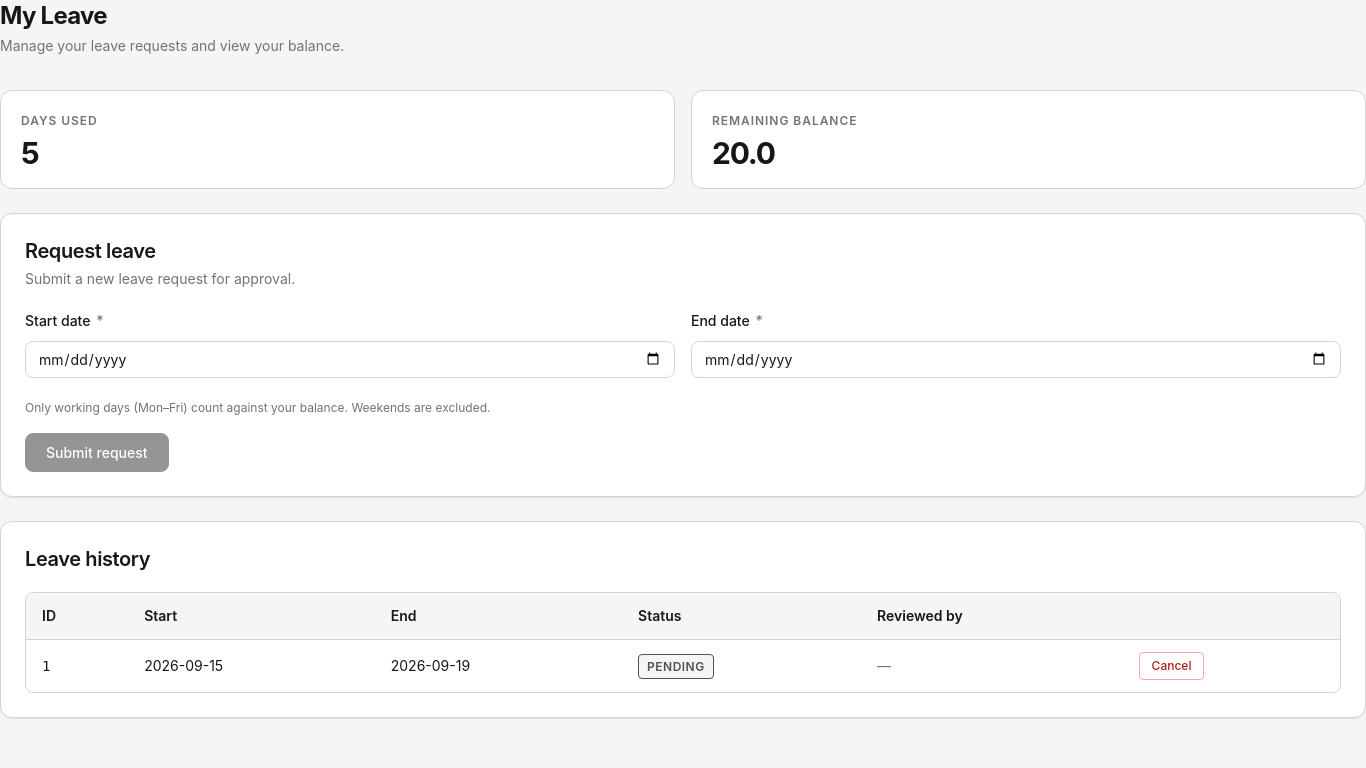
Test case: MyLeavePage — cancel action › shows withdrawal message for Pending leaves
Click the button with aria-label "cancel leave" at (1172, 666), box [1139,652,1204,680]
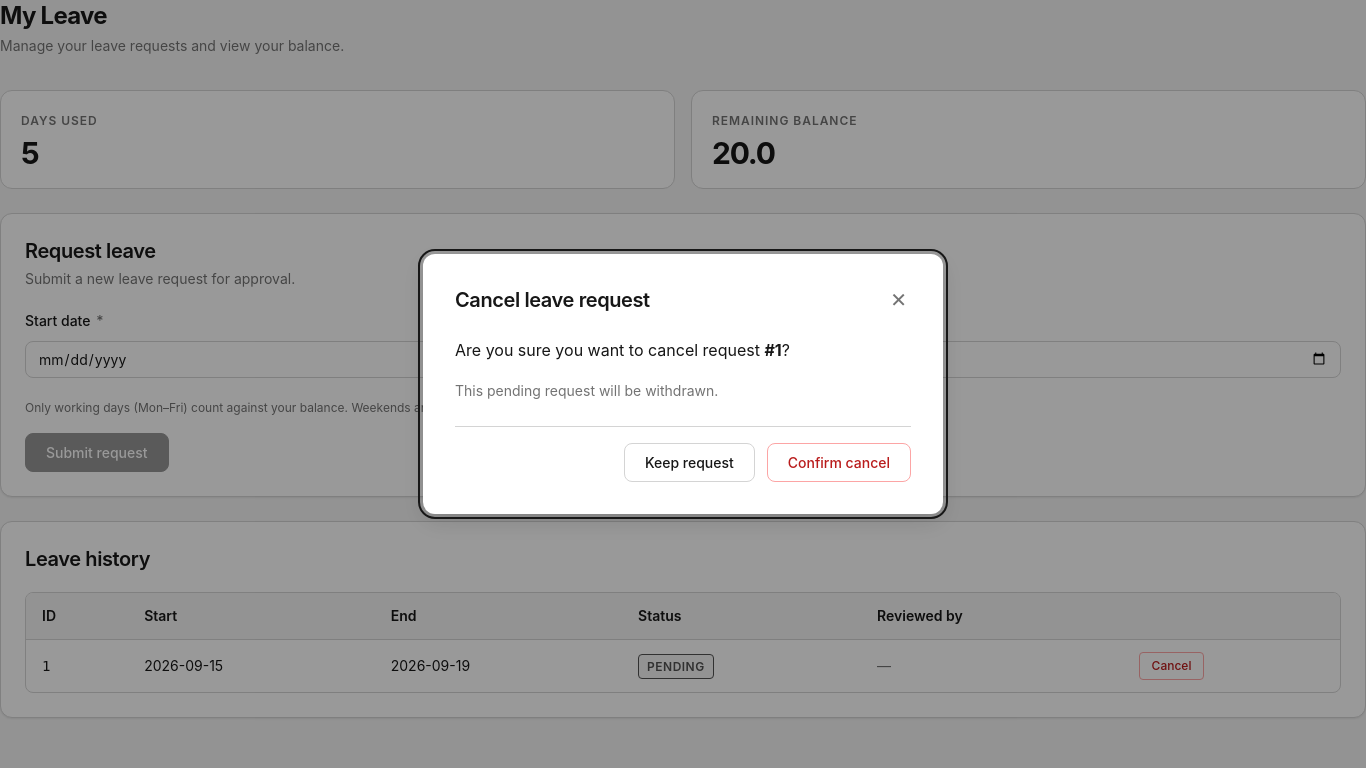
Expected: the text "This pending request will be withdrawn." is shown, [455,382,718,399]
